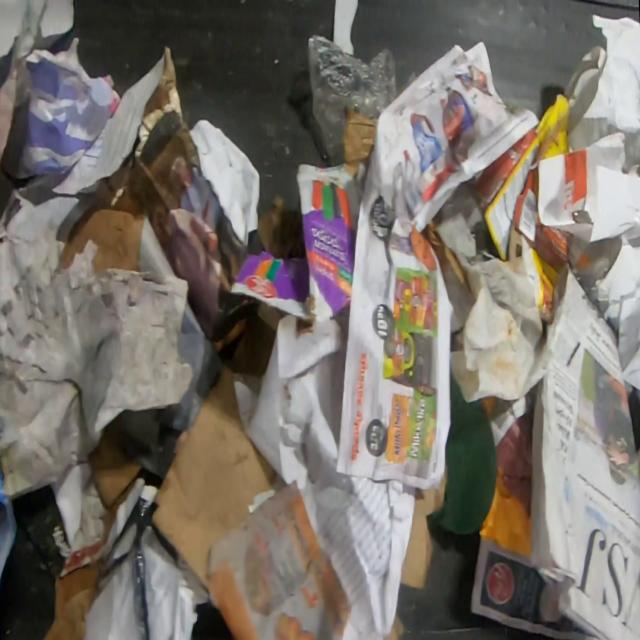cardboard: (150, 303, 281, 592), (470, 92, 594, 326), (228, 161, 366, 326), (42, 433, 143, 640), (57, 162, 148, 273), (399, 460, 446, 588), (343, 108, 376, 176), (0, 468, 19, 585)
rigid_plastic: (100, 495, 166, 640)
soft_plastic: (305, 30, 401, 165)
